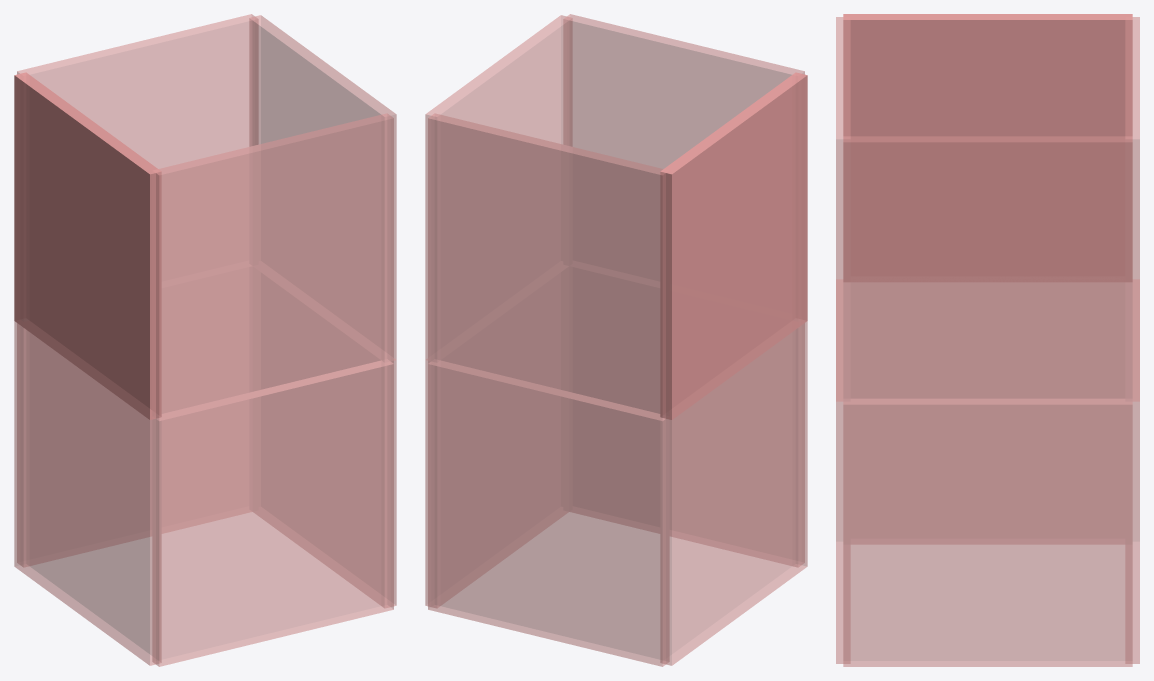
The model's file is torre_step9.glb.
3 views of the same model, side by side, from view 1: azimuth 30°, elevation 25°; view 2: azimuth 150°, elevation 25°; view 3: azimuth 270°, elevation 25° (orthographic). The views are drawn at different scales.
Visible parts, largest first — view 1: qN, qN.001, qS, qW.001, qE.001, qW, qE, qS.001; view 2: qS, qS.001, qN, qW.001, qE.001, qW, qE, qN.001; view 3: qE.001, qW.001, qE, qW, qN.001, qS.001, qN, qS.
Part boxes in pixels (bbox=[...]): qN: bbox=[152, 361, 393, 666]; qN.001: bbox=[153, 113, 393, 420]; qS: bbox=[17, 267, 252, 567]; qW.001: bbox=[14, 72, 161, 419]; qE.001: bbox=[249, 15, 396, 362]; qW: bbox=[14, 321, 161, 665]; qE: bbox=[253, 271, 396, 608]; qS.001: bbox=[17, 14, 258, 287]; qS: bbox=[428, 361, 669, 666]; qS.001: bbox=[428, 113, 668, 420]; qN: bbox=[569, 267, 804, 567]; qW.001: bbox=[660, 72, 807, 419]; qE.001: bbox=[425, 15, 572, 362]; qW: bbox=[660, 321, 807, 665]; qE: bbox=[425, 271, 568, 608]; qN.001: bbox=[563, 14, 804, 287]; qE.001: bbox=[843, 136, 1132, 404]; qW.001: bbox=[843, 14, 1132, 281]; qE: bbox=[843, 399, 1132, 666]; qW: bbox=[851, 282, 1124, 544]; qN.001: bbox=[836, 17, 850, 401]; qS.001: bbox=[1125, 17, 1139, 401]; qN: bbox=[836, 279, 850, 663]; qS: bbox=[1125, 279, 1139, 663].
Size of the model in its own units: 1.05 by 2 by 1.05.
